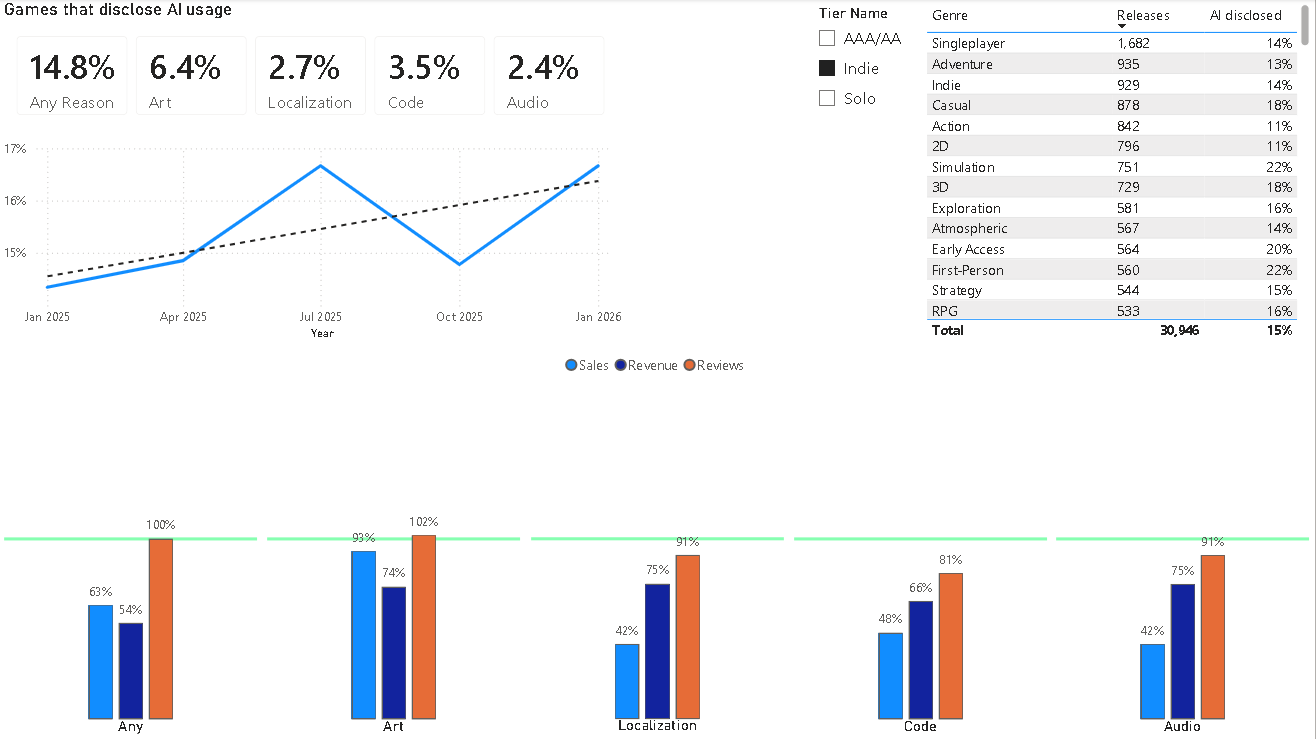

What the dashboard file says about the page in this screenshot:
{"tool":"powerbi","page":{"name":"AI Usage","canvas":[1280,720],"ordinal":2},"visuals":[{"type":"tableEx","fields":{"Values":["game tags.tag","CountNonNull(game tags.tag)"]},"box":[979.7,0,300,400.3],"z":0},{"type":"clusteredColumnChart","fields":{"Y":["game tags.N Revenue","game tags.N Review Score","game tags.N Revenue/Price"],"Category":["game ai.ai_art"]},"box":[0,400.3,319.7,319],"z":1000},{"type":"slicer","fields":{"Values":["game tags.Tier Name"]},"box":[867.8,0,111.9,149.6],"z":3000},{"type":"clusteredColumnChart","fields":{"Y":["game tags.N Revenue","game tags.N Review Score","game tags.N Revenue/Price"],"Category":["game ai.ai_audio"]},"box":[319.7,400.3,319.7,319.7],"z":4000},{"type":"clusteredColumnChart","fields":{"Y":["game tags.N Revenue","game tags.N Review Score","game tags.N Revenue/Price"],"Category":["game ai.ai_localization"]},"box":[960,400.3,319.7,319.7],"z":5000},{"type":"clusteredColumnChart","fields":{"Y":["game tags.N Revenue","game tags.N Review Score","game tags.N Revenue/Price"],"Category":["game ai.ai_code"]},"box":[640.3,400.3,319.7,319.7],"z":6000},{"type":"textbox","box":[51.9,44.8,211.3,60.9],"z":6001}]}

Visuals, with their boxes in screenshot pixels (x1, y1, x2, y2), scaled from the page's 1280x720 canvas onto the 1316x739 screenshot:
tableEx - game tags.tag x CountNonNull(game tags.tag): select_region(1007, 0, 1315, 411)
clusteredColumnChart - game tags.N Revenue x game tags.N Review Score: select_region(0, 411, 329, 738)
slicer - game tags.Tier Name: select_region(892, 0, 1007, 154)
clusteredColumnChart - game tags.N Revenue x game tags.N Review Score: select_region(329, 411, 657, 738)
clusteredColumnChart - game tags.N Revenue x game tags.N Review Score: select_region(987, 411, 1315, 738)
clusteredColumnChart - game tags.N Revenue x game tags.N Review Score: select_region(658, 411, 987, 738)
textbox: select_region(53, 46, 271, 108)
